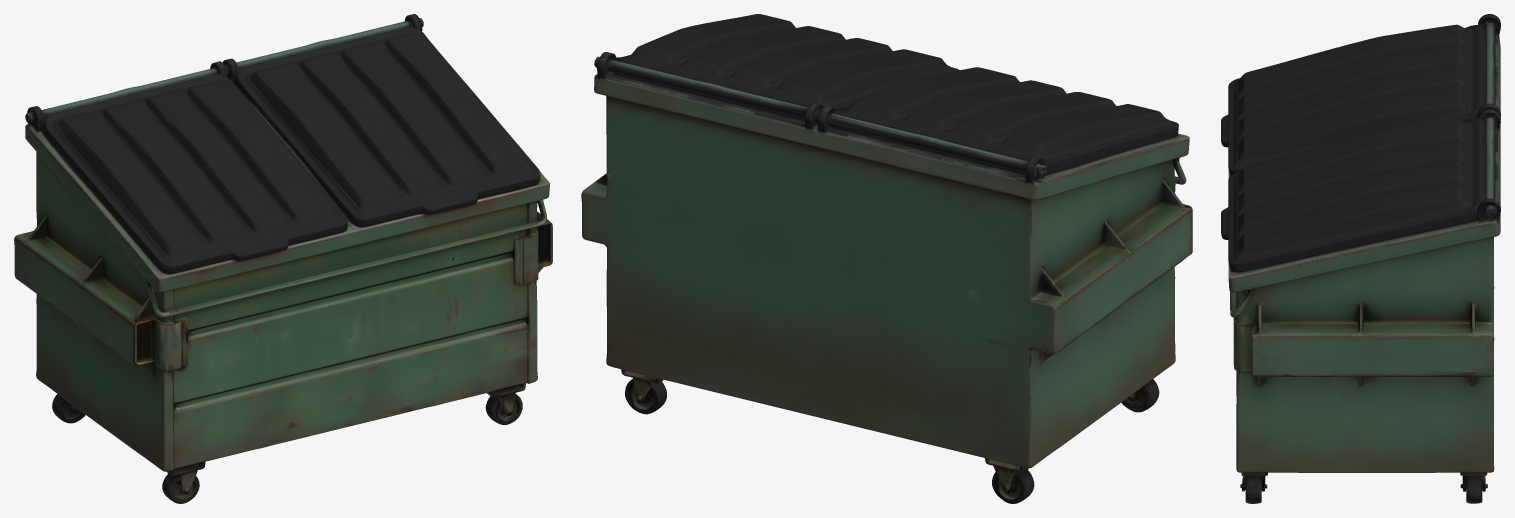
The model's file is grungy_urban_dumpster__trash_bin_game-ready.glb.
The picture shows the model from 3 angles, left to right: view 1: azimuth 30°, elevation 25°; view 2: azimuth 150°, elevation 25°; view 3: azimuth 270°, elevation 25°; orthographic projection. The views are drawn at different scales.
Parts seen in each view (by area): view 1: Object_4; view 2: Object_4; view 3: Object_4.
Boxes of the visible parts, <box> form: Object_4: <box>14,14,552,503</box>; Object_4: <box>581,14,1192,503</box>; Object_4: <box>1221,14,1500,503</box>.
Size of the model in its own units: 0.9305 by 0.6689 by 0.5382.
1 material, 1 textured.
